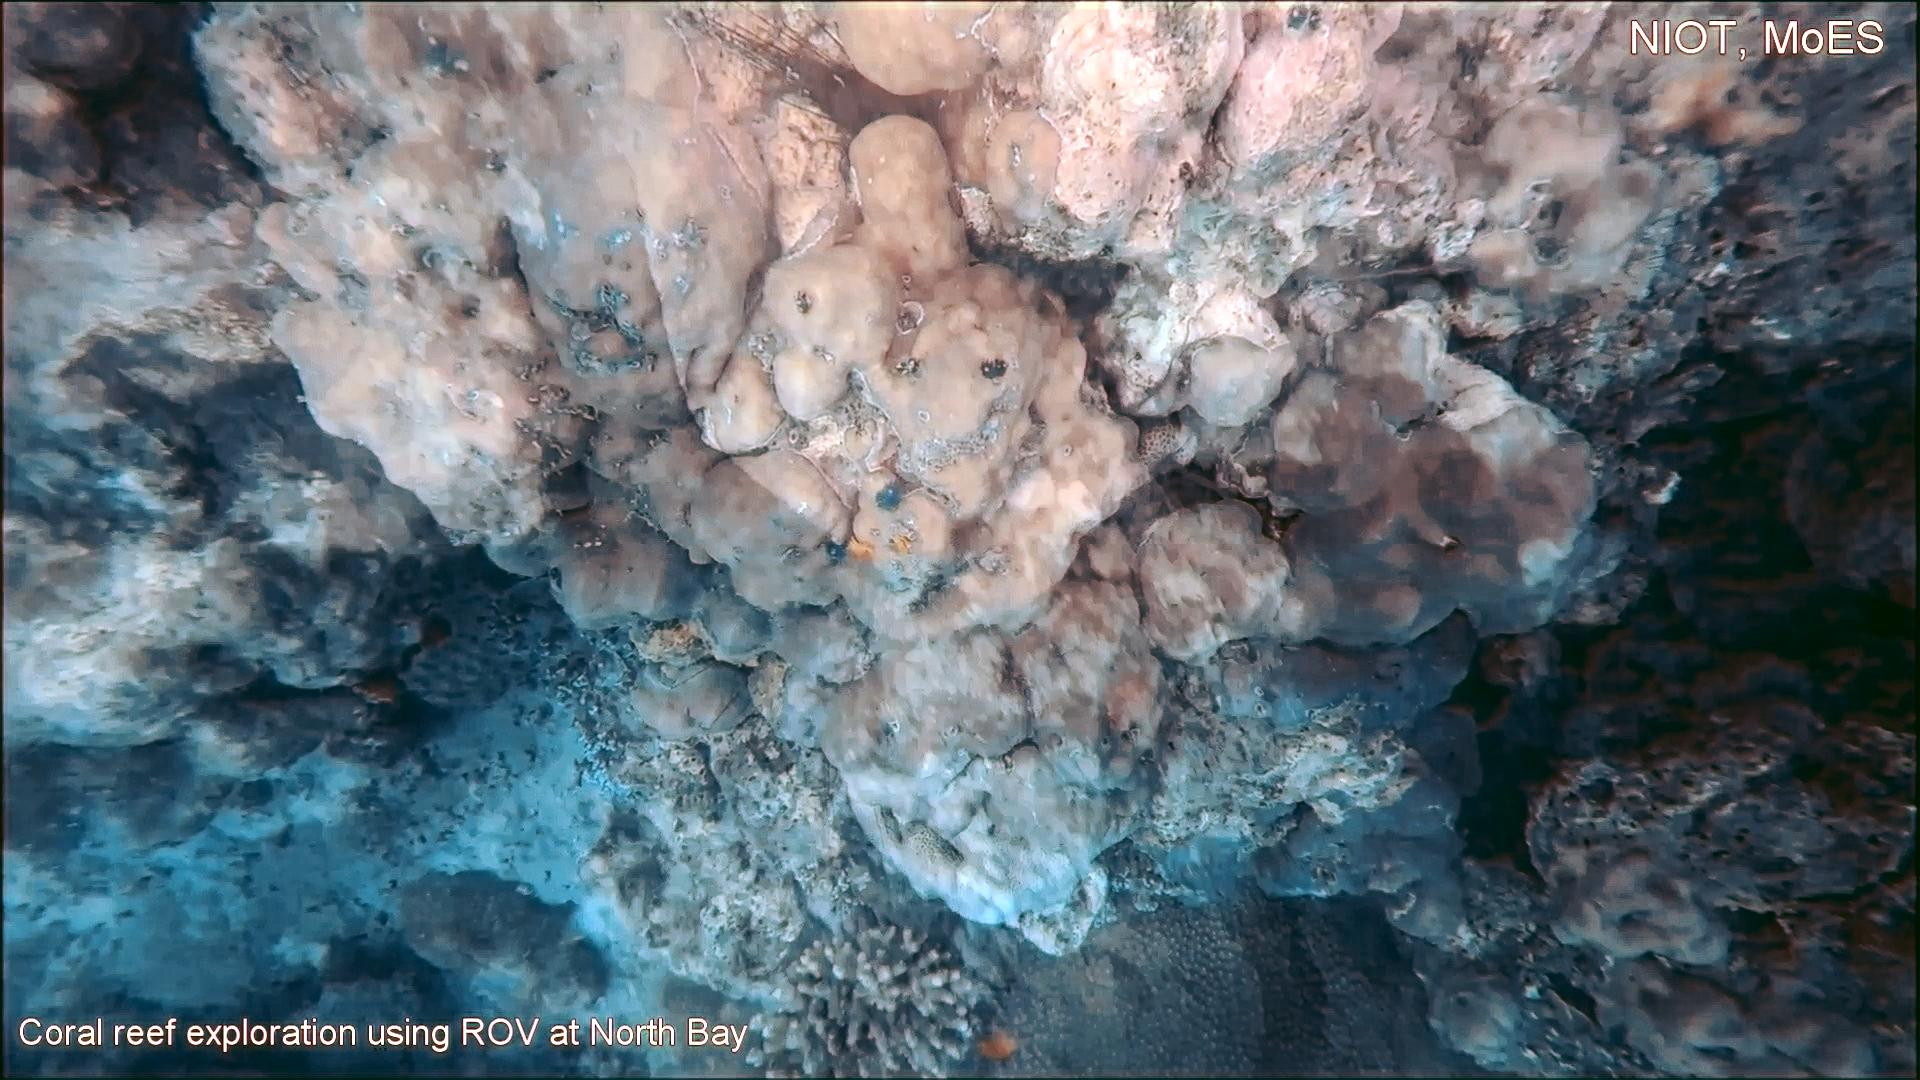Meandrina meandrites: (1776, 328, 1920, 626)
